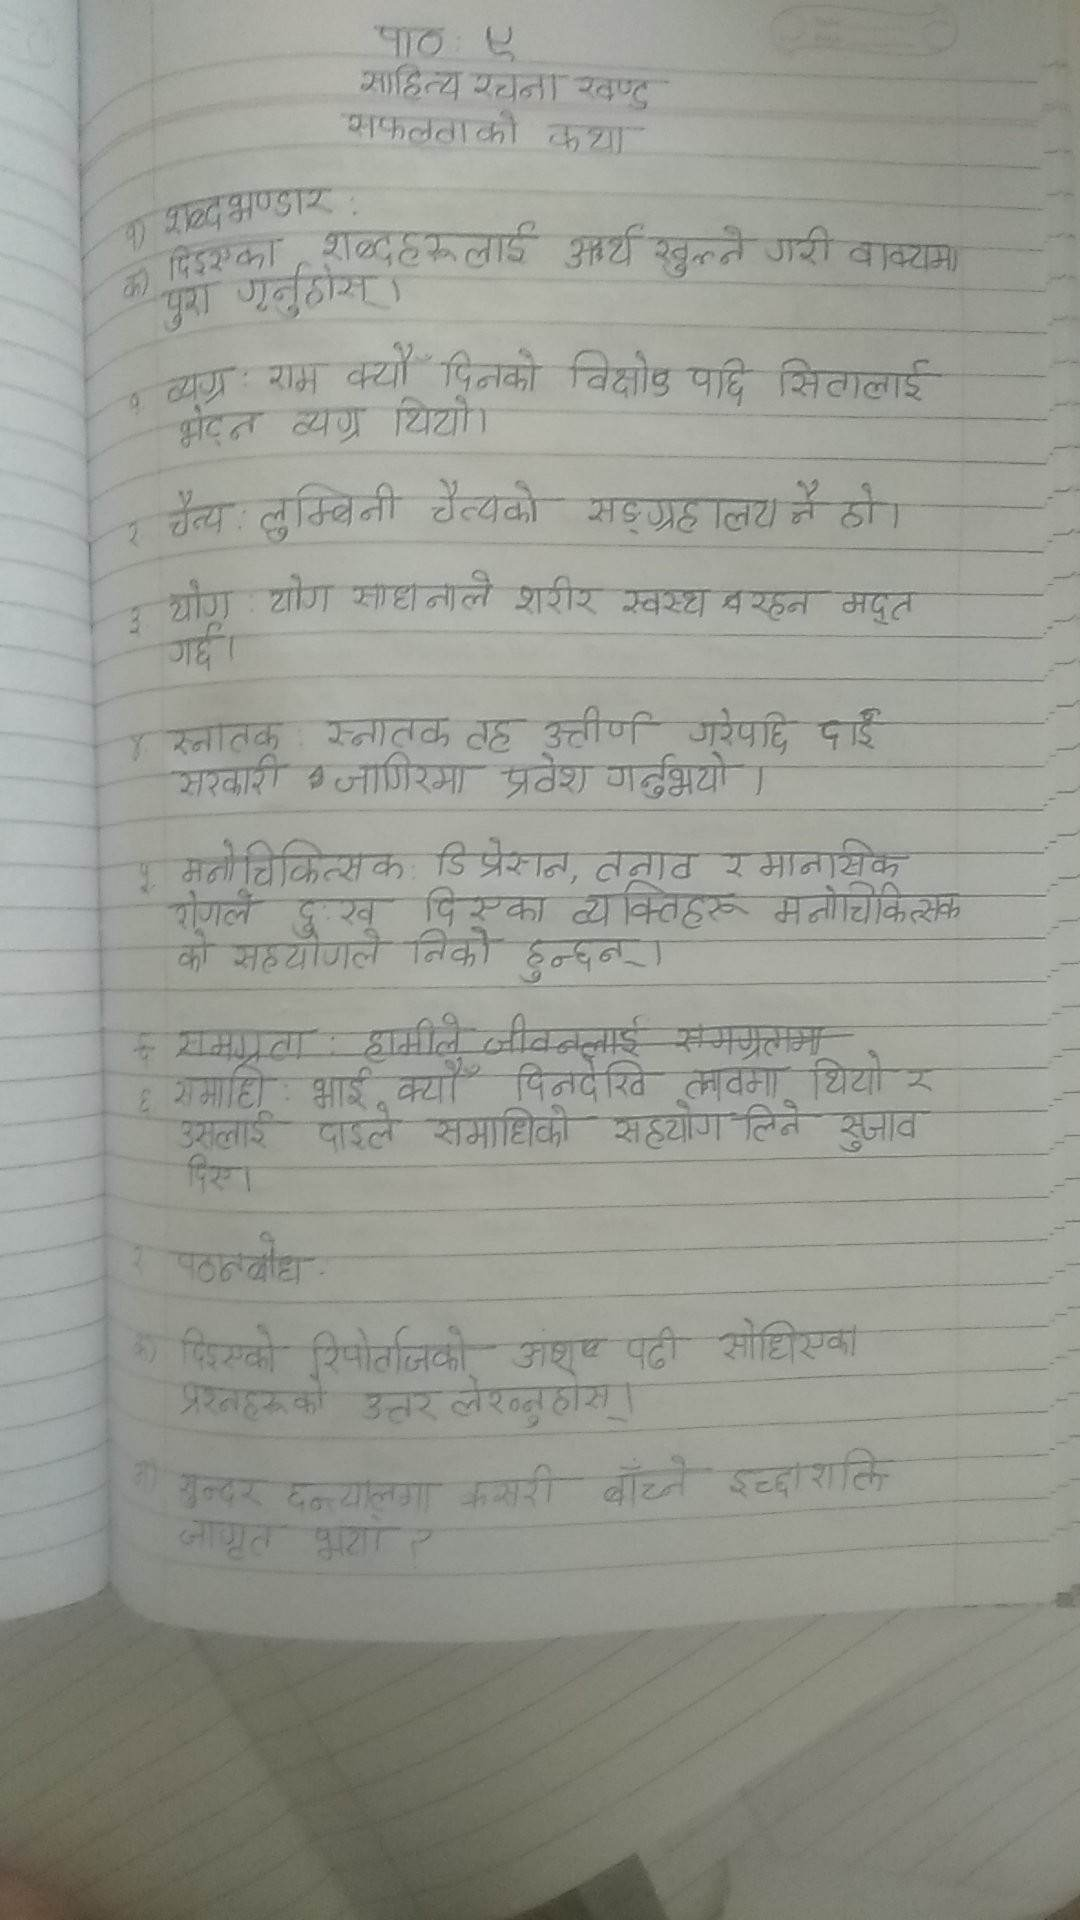text: (175, 835, 411, 884), (320, 219, 535, 272), (583, 489, 781, 543), (771, 880, 965, 934), (301, 1321, 473, 1381), (447, 1377, 628, 1431), (568, 880, 752, 932), (721, 1445, 897, 1497), (160, 181, 338, 231), (171, 1225, 309, 1288), (257, 480, 400, 541), (777, 352, 932, 407), (233, 264, 384, 320), (342, 102, 524, 148), (179, 1371, 328, 1425), (721, 1313, 860, 1367), (429, 1101, 578, 1151), (431, 836, 574, 887), (757, 833, 905, 881), (512, 1054, 651, 1104), (605, 749, 735, 803), (347, 568, 497, 615), (287, 1469, 433, 1516), (516, 935, 647, 986), (227, 932, 382, 976), (334, 752, 472, 800), (567, 343, 676, 401), (599, 1451, 698, 1513), (429, 475, 541, 529), (611, 1101, 727, 1153), (417, 881, 551, 924), (177, 1321, 284, 1375), (651, 223, 749, 281), (175, 756, 287, 804), (460, 1462, 560, 1516), (175, 1515, 280, 1567), (171, 1059, 272, 1112), (684, 704, 793, 752), (440, 344, 543, 393), (323, 712, 459, 749), (543, 704, 647, 752), (356, 61, 464, 105), (804, 1047, 889, 1104), (175, 1106, 277, 1153), (167, 237, 277, 280), (409, 924, 497, 976), (345, 340, 433, 392), (392, 388, 476, 440), (593, 844, 705, 884), (840, 1101, 919, 1156), (175, 404, 261, 454), (177, 1469, 269, 1515), (851, 239, 961, 277), (392, 1059, 480, 1106), (313, 1511, 386, 1568), (315, 1108, 400, 1156), (501, 756, 592, 800), (287, 891, 376, 938), (512, 574, 601, 618), (676, 1063, 781, 1101), (357, 1385, 440, 1432), (512, 1335, 607, 1375), (563, 223, 641, 272), (171, 885, 257, 928), (285, 404, 367, 448), (471, 69, 564, 107), (169, 723, 284, 753), (684, 353, 752, 405), (572, 73, 653, 115), (167, 488, 228, 543), (620, 583, 708, 620), (160, 281, 220, 334), (840, 588, 920, 628), (738, 1100, 804, 1147), (545, 120, 632, 156), (268, 574, 336, 618), (309, 1064, 371, 1113), (167, 583, 237, 625), (626, 1323, 684, 1373), (767, 225, 836, 266), (262, 357, 328, 400), (167, 628, 225, 675), (375, 25, 448, 61), (749, 588, 818, 625), (169, 927, 215, 980), (785, 476, 825, 531), (167, 369, 231, 405), (841, 480, 884, 531), (462, 715, 517, 752), (477, 24, 524, 61), (899, 1067, 936, 1095), (717, 851, 752, 880), (117, 266, 144, 301), (119, 220, 142, 247)
